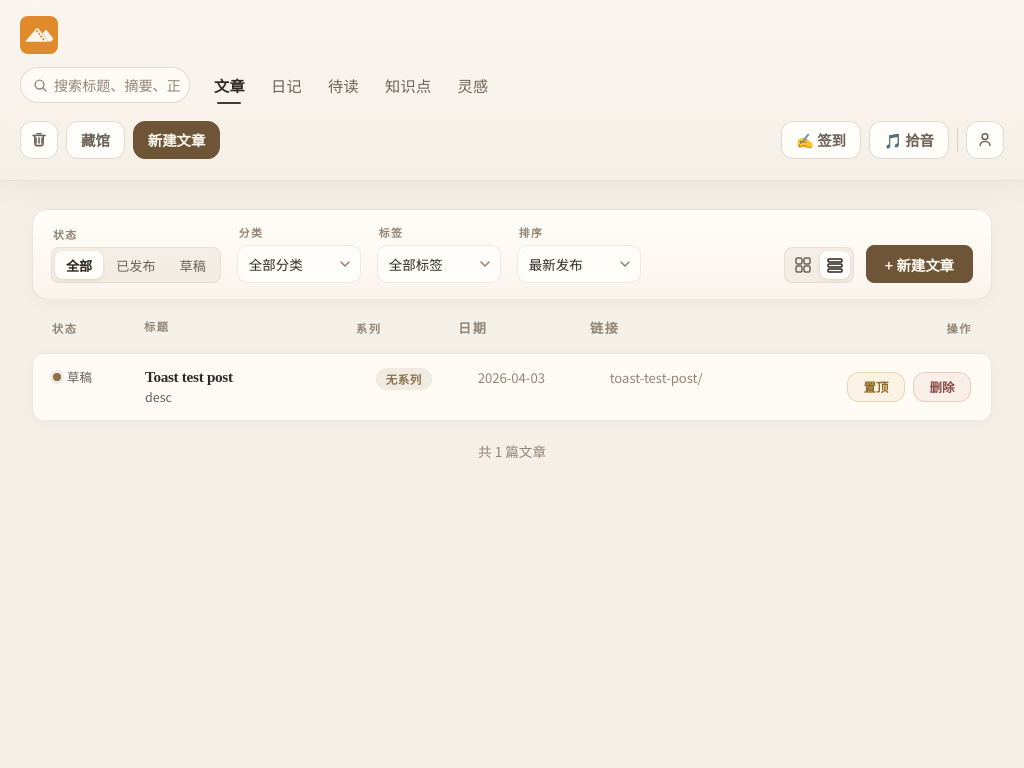
it: App floating toast notifications › renders save success notification as a floating toast with close button and auto dismisses
The width and height of the screenshot is (1024, 768).
Check: the text "Toast test post" is shown, box [145, 368, 233, 386]
Click the button "草稿 Toast test post desc 无系列 2026-04-03 toast-test-post/": (189, 376) [53, 368, 831, 406]
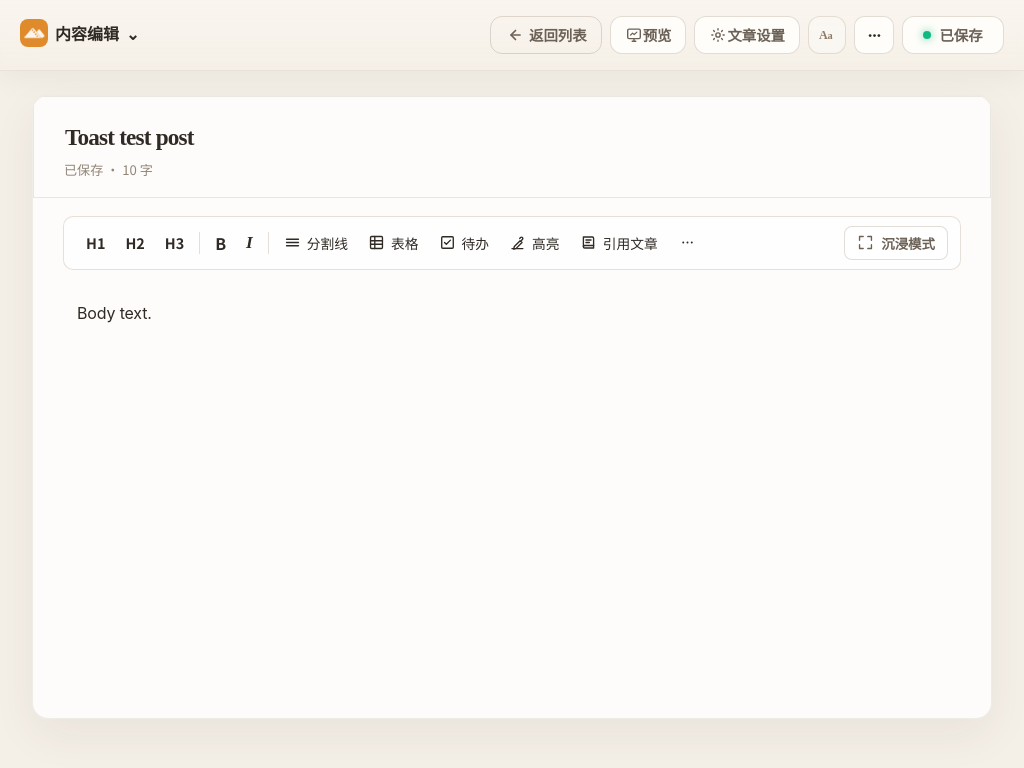
Check: the text box named "Markdown 编辑器" is shown, box [63, 270, 961, 688]
Replace the text in the field named "标题" with "Updated Toast Title": (512, 138) [64, 123, 960, 153]
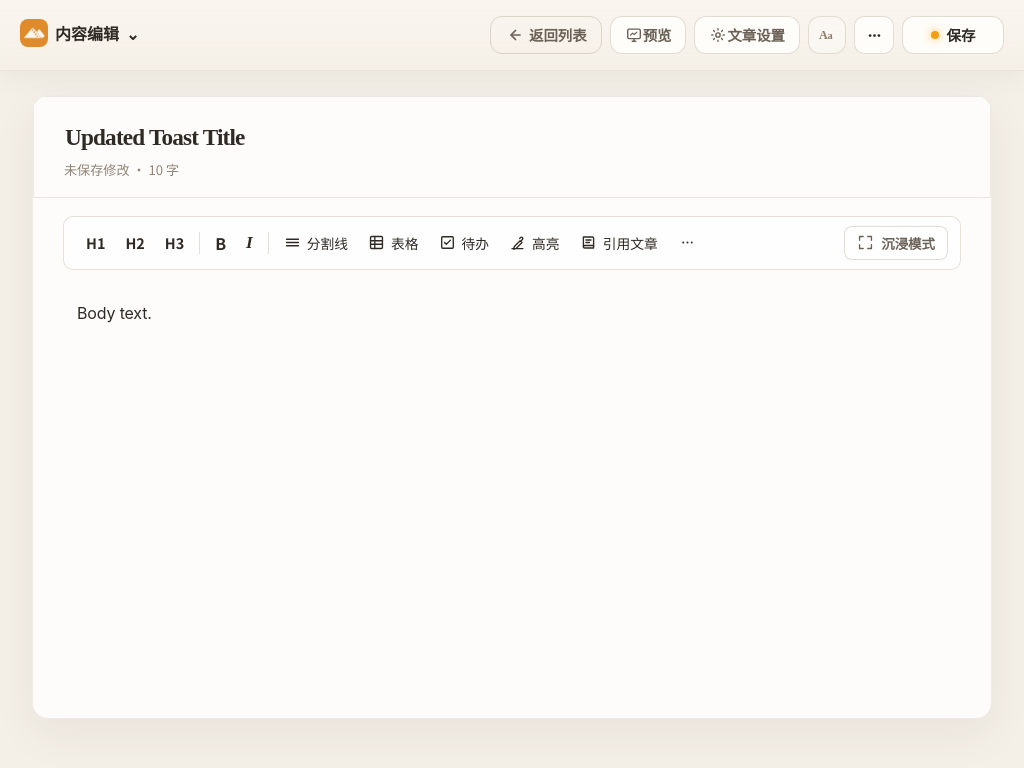
Click the button "保存": (953, 35) [902, 16, 1004, 54]
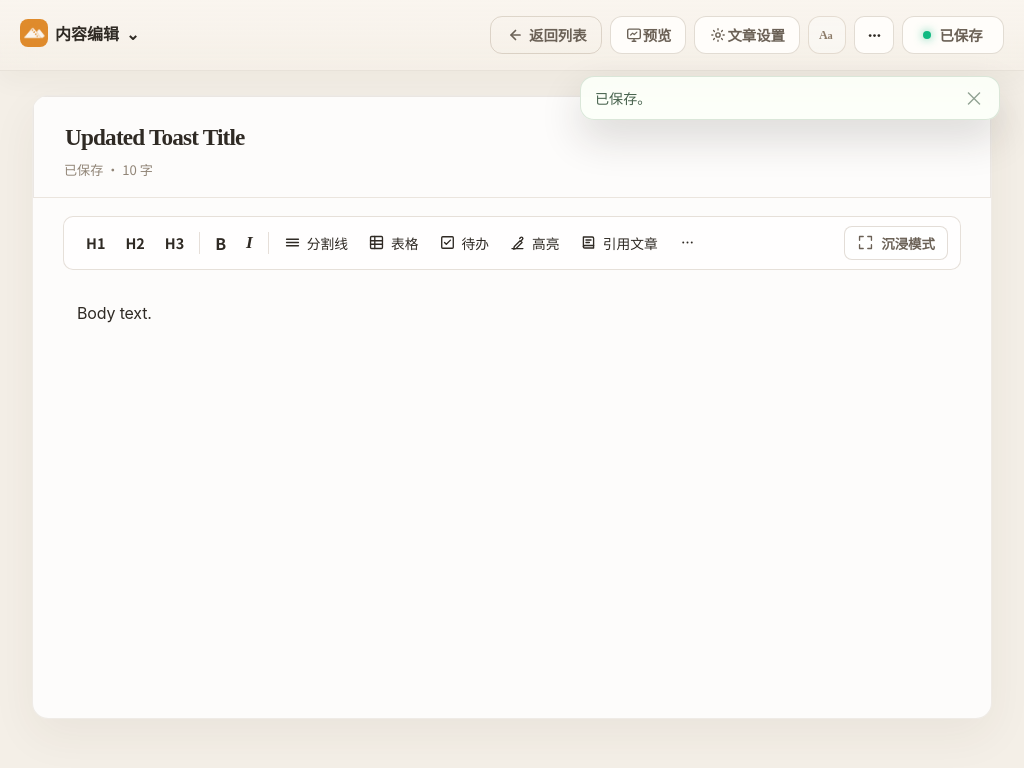
Check: the element named "通知提示" is shown, box [580, 76, 1000, 120]
Check: the message shows "已保存。", box [595, 88, 651, 108]
Check: the button named "关闭提示" is shown
Click the button named "关闭提示": (974, 98) [963, 87, 985, 109]
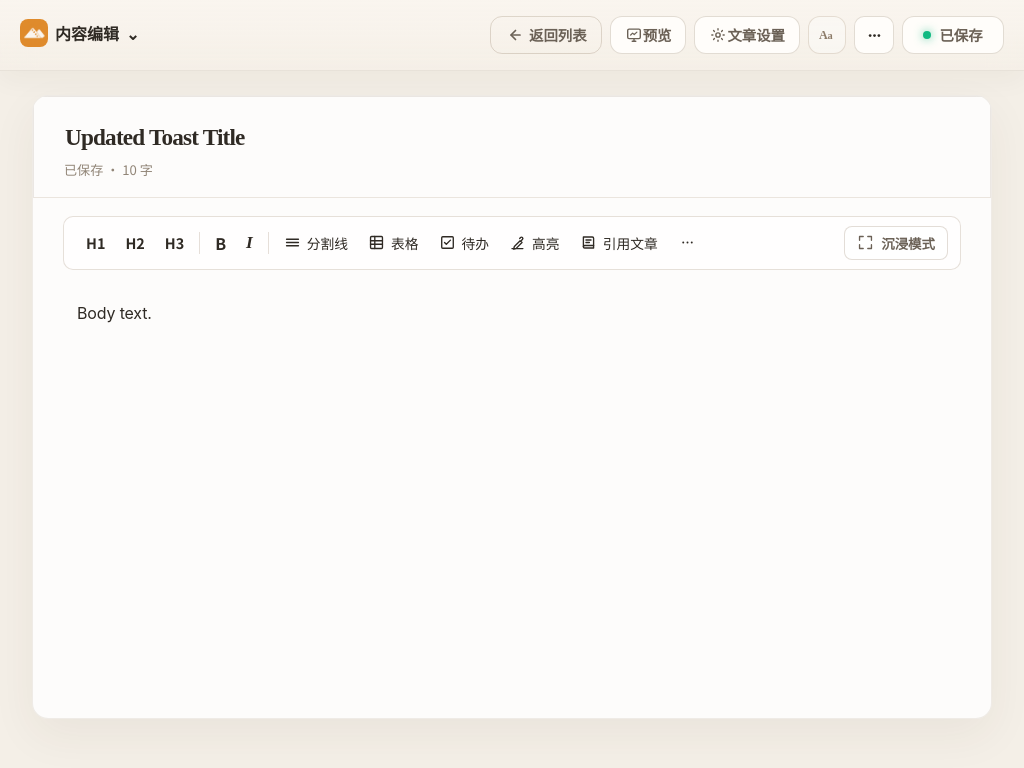
Check: the element "通知提示" is gone
